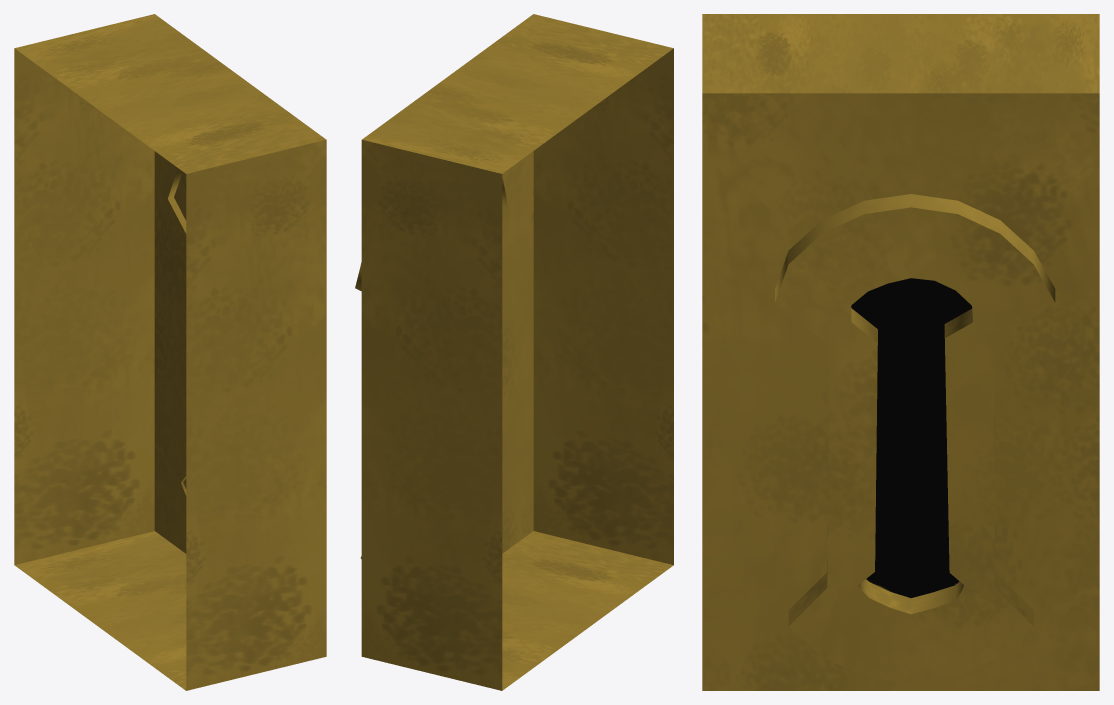
File: KeyFrame_Model.fbx
3 renders of one model, left to right at view 1: azimuth 30°, elevation 25°; view 2: azimuth 150°, elevation 25°; view 3: azimuth 270°, elevation 25°, orthographic. The views are drawn at different scales.
Parts seen in each view (by area): view 1: pPipe2; view 2: pPipe2; view 3: pPipe2.
Boxes of the visible parts, x1,y1,x2,y2 form: pPipe2: (14,14,326,690); pPipe2: (355,14,673,690); pPipe2: (702,14,1099,690).
Size of the model in its own units: 1.5 by 4.35 by 2.62.
